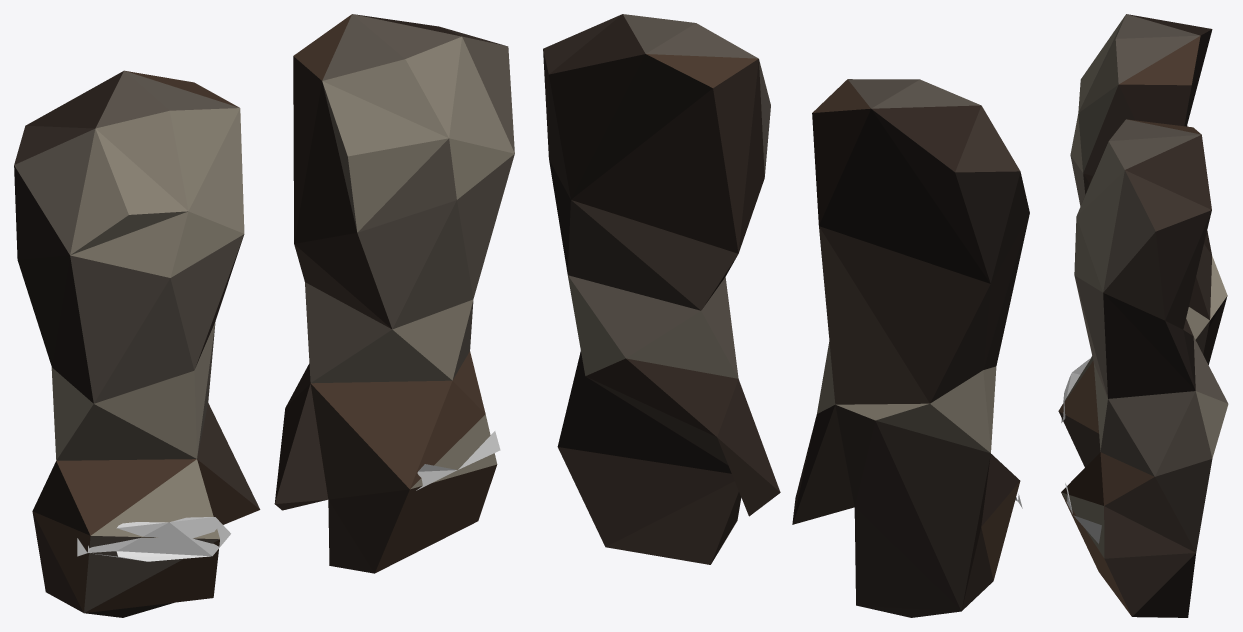
Rendered from aiwpn_gloves_lo.glb.
3 renders of one model, left to right at view 1: azimuth 30°, elevation 25°; view 2: azimuth 150°, elevation 25°; view 3: azimuth 270°, elevation 25°, orthographic. The views are drawn at different scales.
Parts seen in each view (by area): view 1: ca_aiwpn_gloves_lo; view 2: ca_aiwpn_gloves_lo; view 3: ca_aiwpn_gloves_lo.
Boxes of the visible parts, x1=… form: ca_aiwpn_gloves_lo: x1=14, y1=14, x2=514, y2=617; ca_aiwpn_gloves_lo: x1=543, y1=14, x2=1029, y2=617; ca_aiwpn_gloves_lo: x1=1058, y1=14, x2=1228, y2=617.
Bounding box in the file's own units: 0.4028 × 0.4146 × 0.136.
